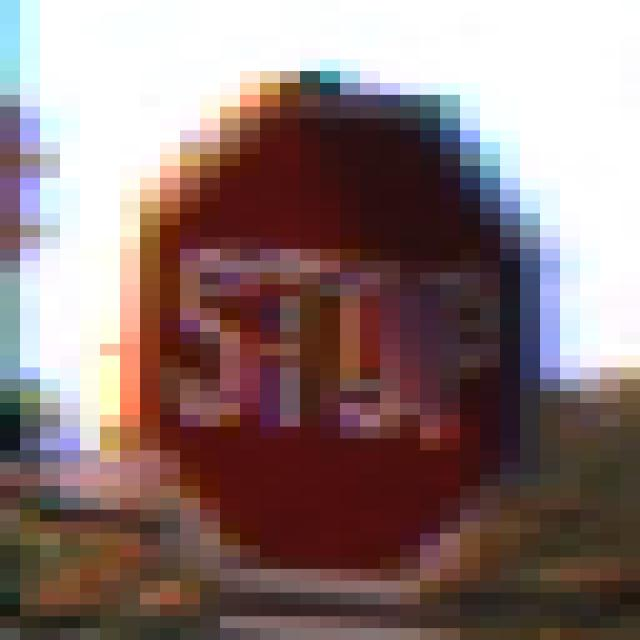STOP: (121, 60, 541, 582)
